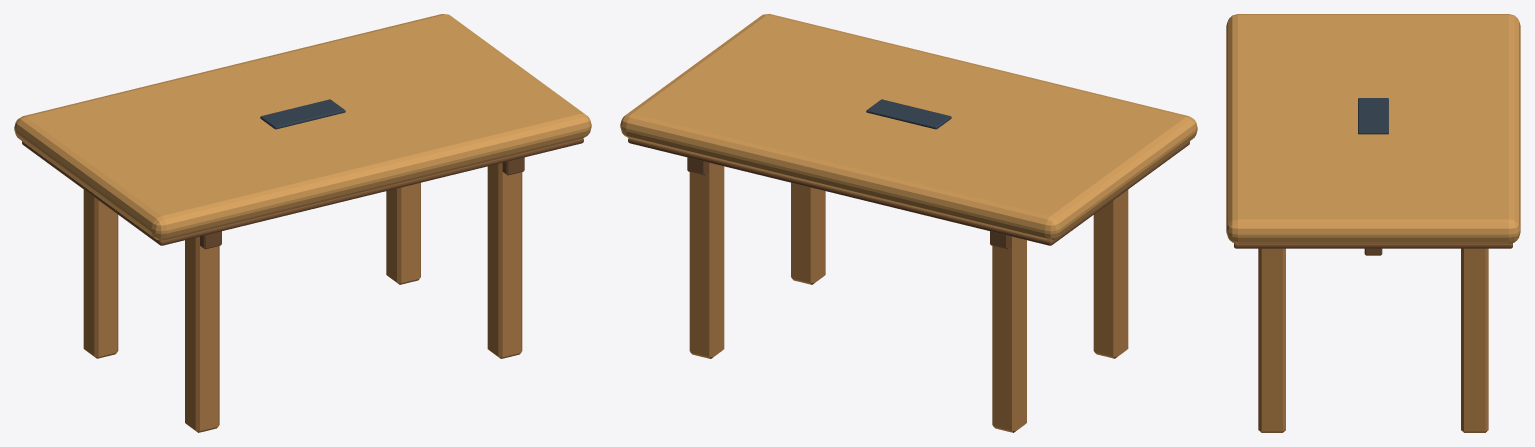
The model's file is table_meeting_small.glb.
3 renders of one model, left to right at view 1: azimuth 30°, elevation 25°; view 2: azimuth 150°, elevation 25°; view 3: azimuth 270°, elevation 25°, orthographic.
Visible parts, largest first — view 1: table_meeting_small__oak_top, table_meeting_small__oak, table_meeting_small__oak_dark, table_meeting_small__metal; view 2: table_meeting_small__oak_top, table_meeting_small__oak, table_meeting_small__oak_dark, table_meeting_small__metal; view 3: table_meeting_small__oak_top, table_meeting_small__oak, table_meeting_small__oak_dark, table_meeting_small__metal.
Boxes of the visible parts, box(x1,y1,x2,y2) form: table_meeting_small__oak_top: box(14, 14, 591, 240); table_meeting_small__oak: box(83, 163, 522, 432); table_meeting_small__oak_dark: box(22, 138, 583, 249); table_meeting_small__metal: box(260, 99, 345, 129); table_meeting_small__oak_top: box(620, 14, 1197, 240); table_meeting_small__oak: box(689, 163, 1128, 432); table_meeting_small__oak_dark: box(628, 138, 1189, 249); table_meeting_small__metal: box(866, 99, 951, 129); table_meeting_small__oak_top: box(1226, 14, 1520, 243); table_meeting_small__oak: box(1258, 248, 1488, 432); table_meeting_small__oak_dark: box(1234, 243, 1512, 255); table_meeting_small__metal: box(1358, 98, 1388, 134).
Bounding box in the file's own units: 1.55 × 0.81 × 0.9.
